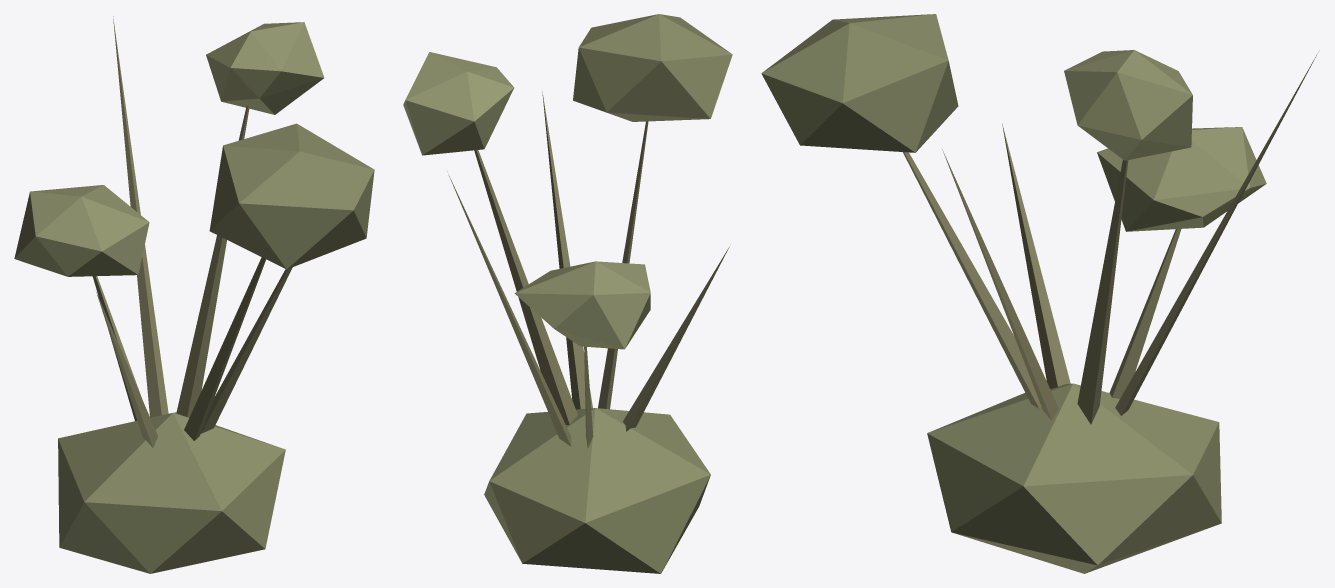
Rendered from scrub_7.glb.
3 views of the same model, side by side, from view 1: azimuth 30°, elevation 25°; view 2: azimuth 150°, elevation 25°; view 3: azimuth 270°, elevation 25° (orthographic). The views are drawn at different scales.
Visible parts, largest first — view 1: scrub_7.001; view 2: scrub_7.001; view 3: scrub_7.001.
Part boxes in pixels (box(x1,y1,x2,y2)): scrub_7.001: box(14, 16, 374, 573); scrub_7.001: box(403, 14, 732, 573); scrub_7.001: box(761, 14, 1319, 573).
Size of the model in its own units: 1.21 by 2.1 by 1.83.
